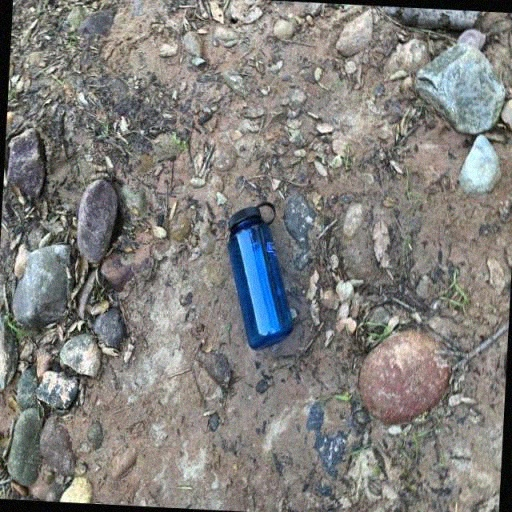bottle: (222, 200, 300, 352)
